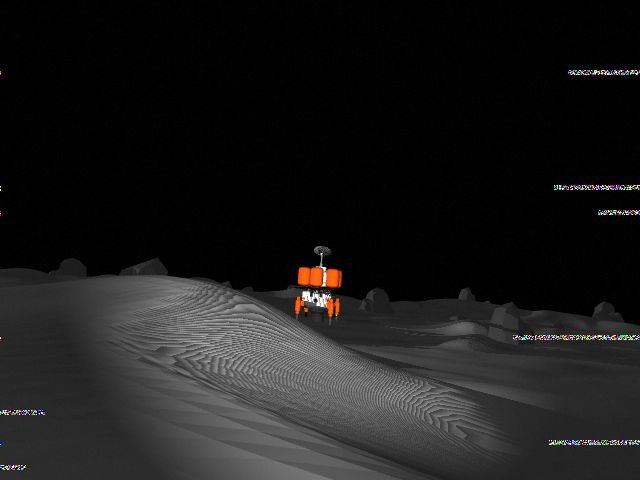homebase: (292, 244, 348, 328)
